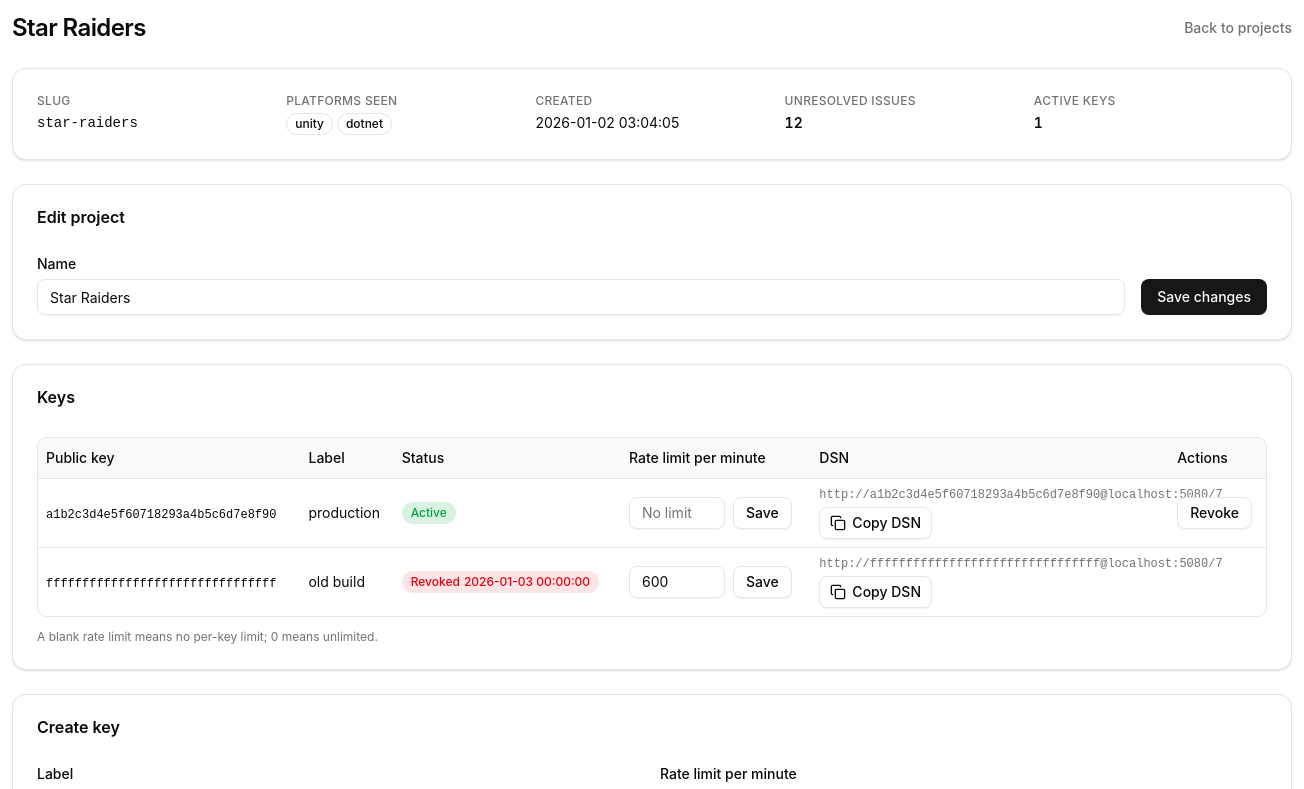
Test case: ProjectDetailPage › patches only the changed name and refreshes the project list
Expected: the heading "Star Raiders" is shown, [12,12,146,44]
Replace the text in the field labelled "Name" with "  Star Raiders Live  " at (581, 297), box [37,279,1125,315]
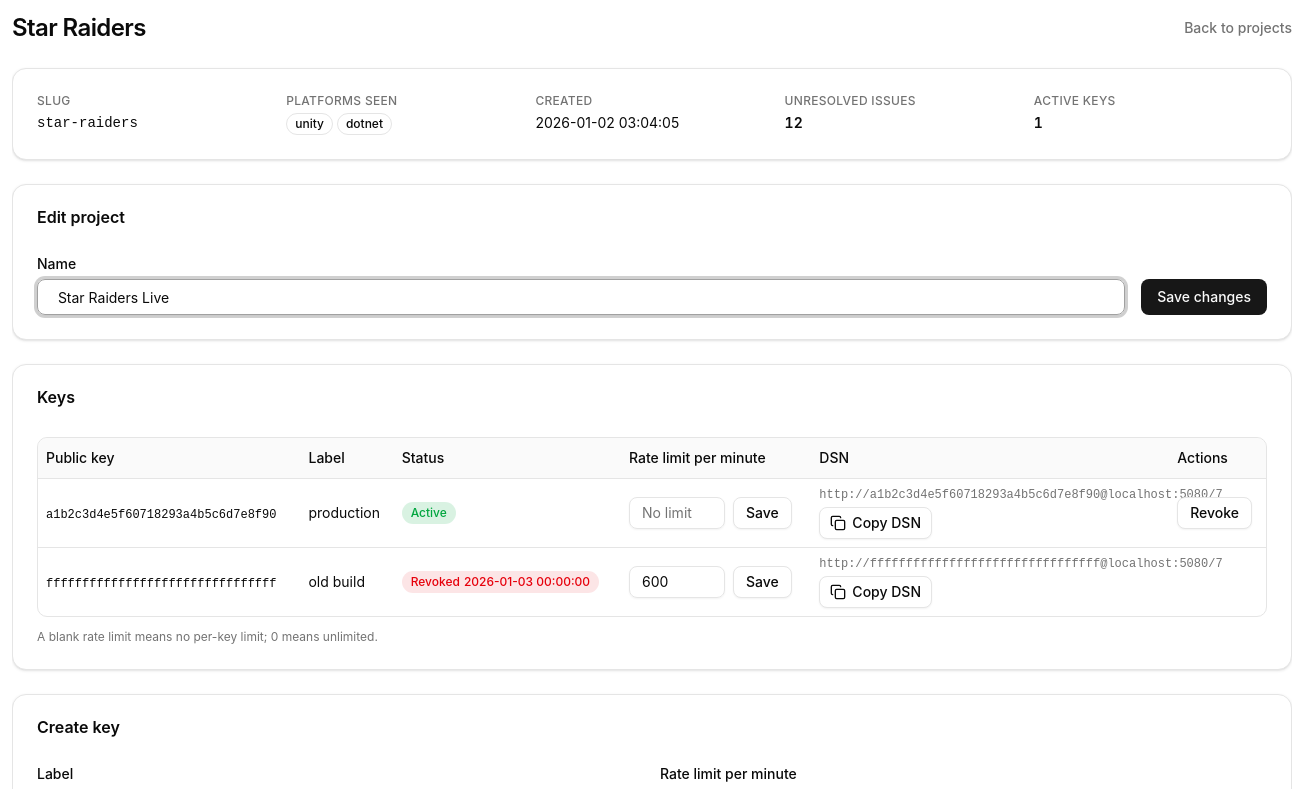
Click the button "Save changes" at (1204, 297), box [1141,279,1267,315]
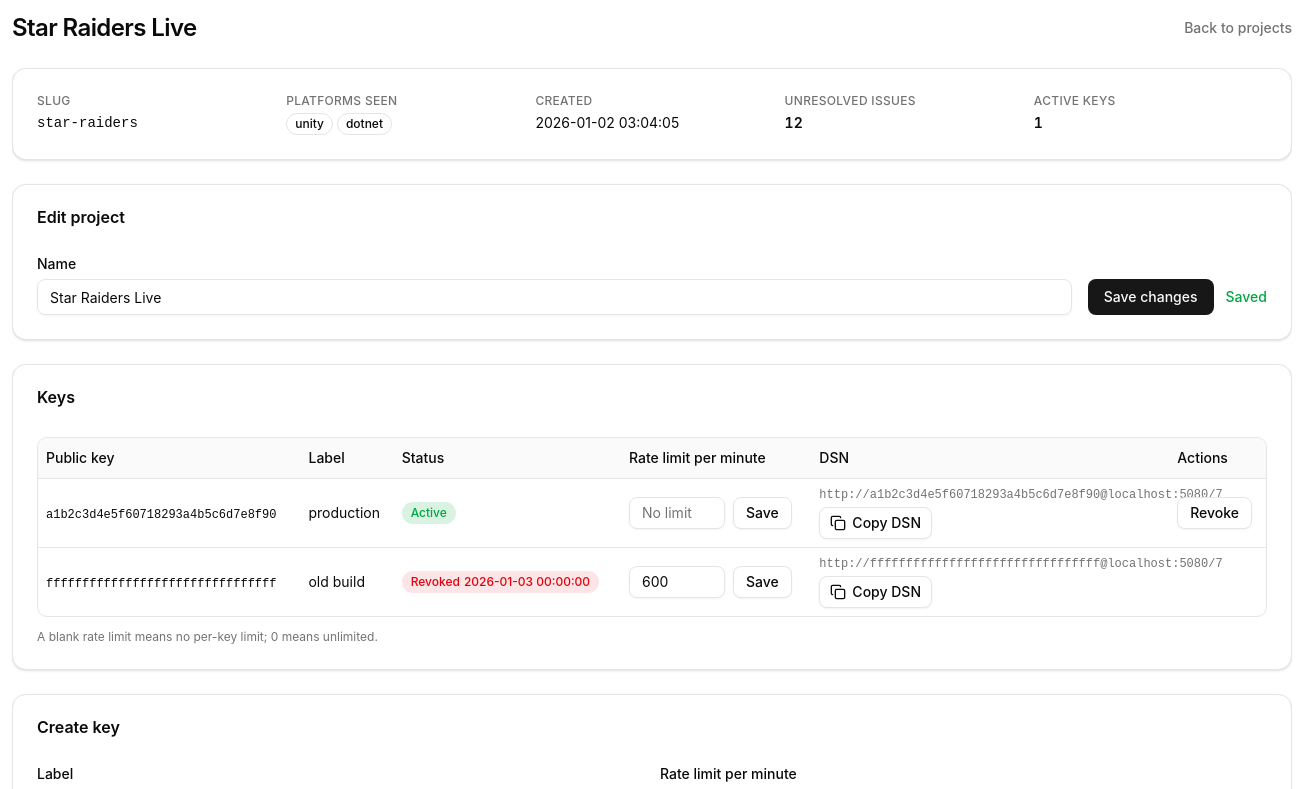
Expected: the message reads "Saved", [1226,288,1267,305]
